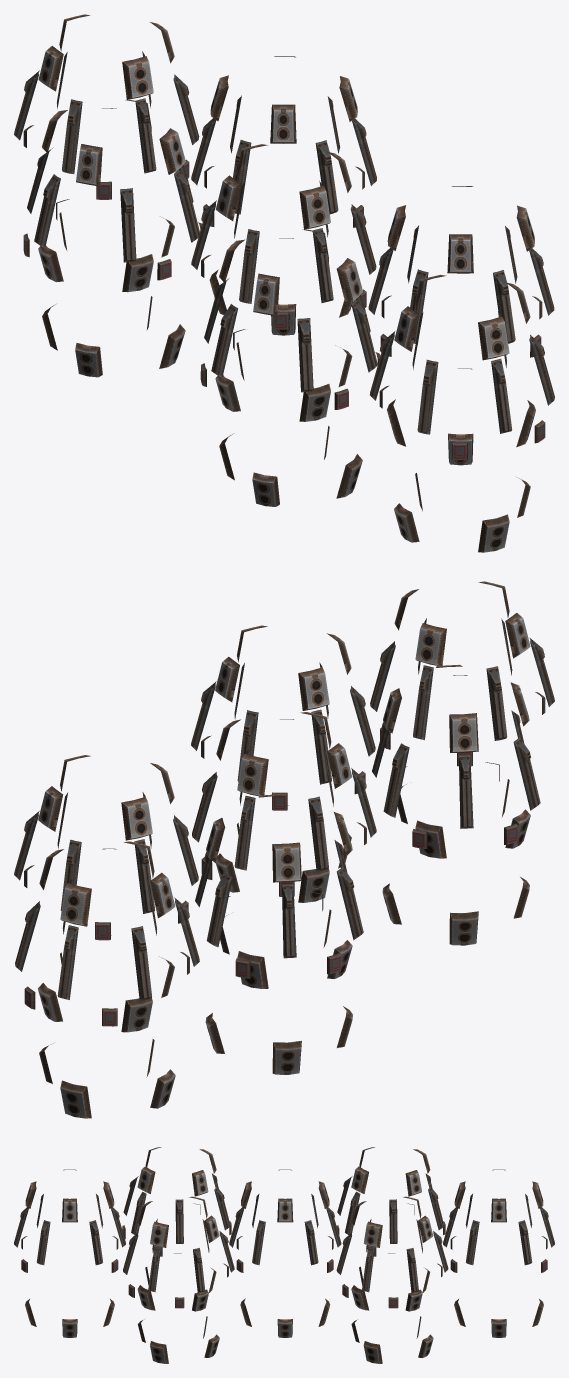
The model's file is prop_static_yao_container_01_01_0.glb.
The picture shows the model from 3 angles, top to bottom: view 1: azimuth 30°, elevation 25°; view 2: azimuth 150°, elevation 25°; view 3: azimuth 270°, elevation 25°; orthographic projection. The views are drawn at different scales.
Parts seen in each view (by area): view 1: yao_container_01_01_LOD0; view 2: yao_container_01_01_LOD0; view 3: yao_container_01_01_LOD0.
Part boxes in pixels (bbox=[...]): yao_container_01_01_LOD0: bbox=[14, 14, 554, 552]; yao_container_01_01_LOD0: bbox=[14, 581, 554, 1118]; yao_container_01_01_LOD0: bbox=[14, 1147, 554, 1363].
Size of what is drawn, in the model's own units: 4.29 by 2.86 by 10.08.
Materials: 1 (1 with a texture image).
